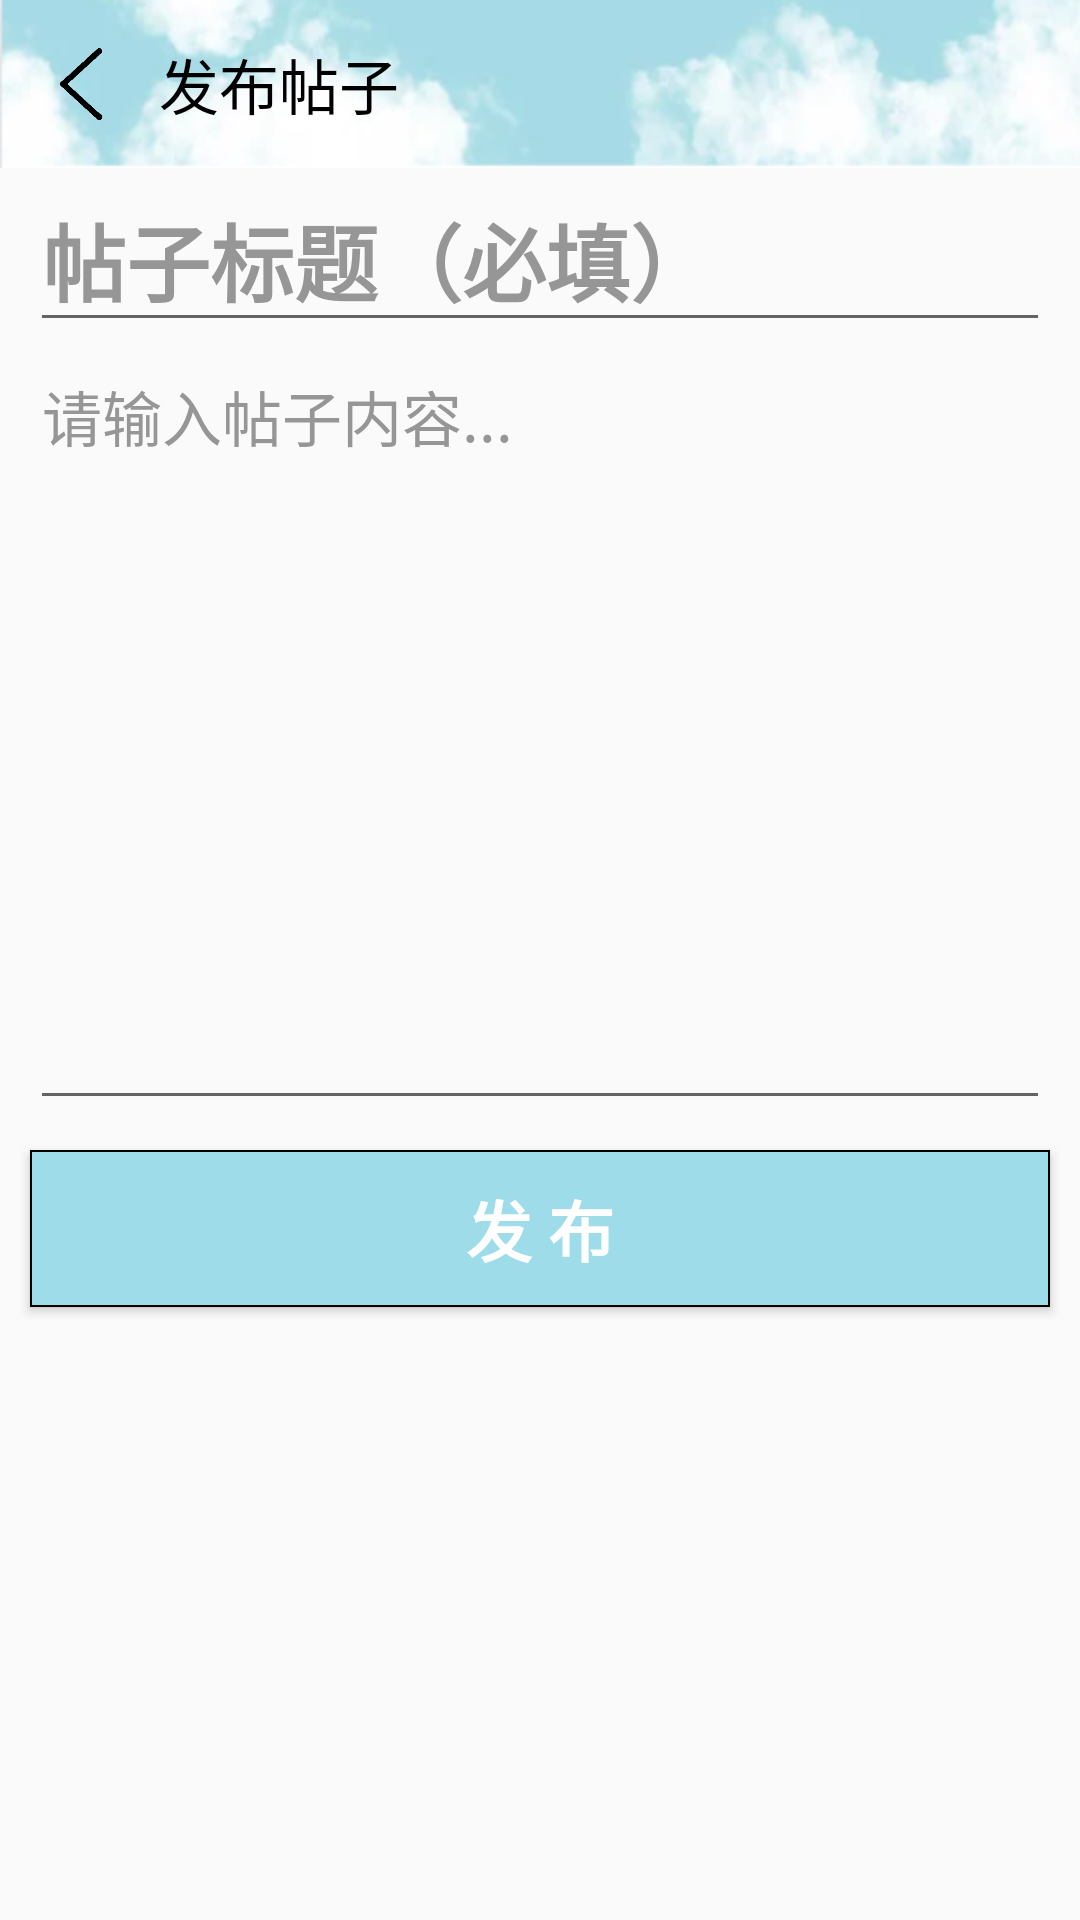

Where to tap for icons on this 1080x1920 app screen, as (x=x, y=y):
return: (x=81, y=84)
